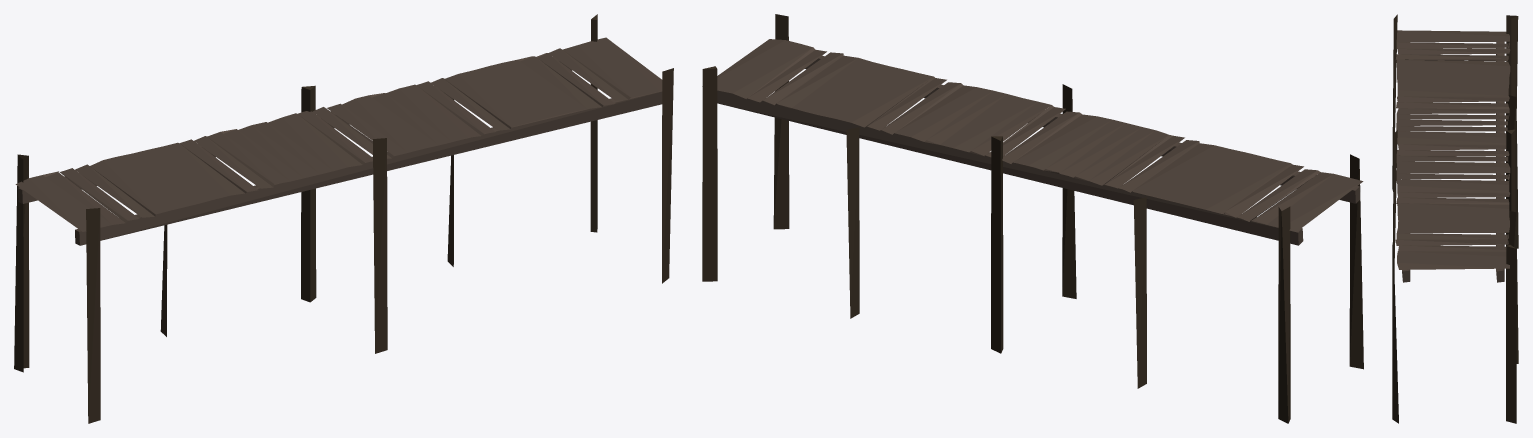
Rendered from jetty-lod1.glb.
3 views of the same model, side by side, from view 1: azimuth 30°, elevation 25°; view 2: azimuth 150°, elevation 25°; view 3: azimuth 270°, elevation 25° (orthographic). The views are drawn at different scales.
Bounding box in the file's own units: 11.97 × 4.1 × 2.68.
